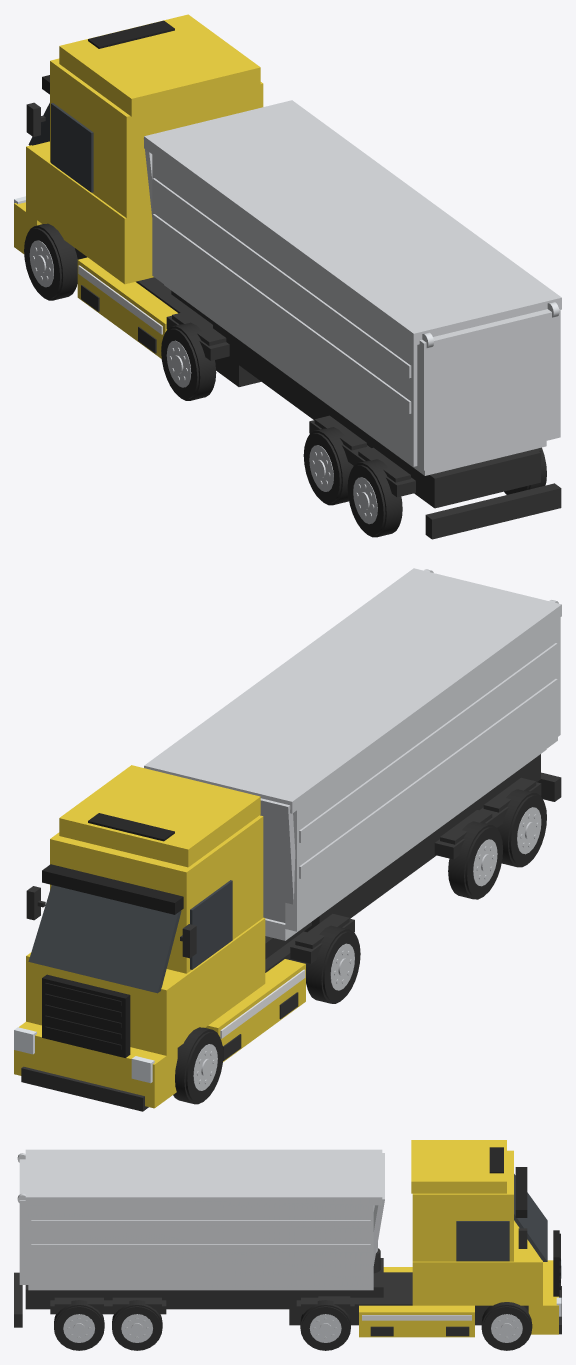
The model's file is caminhao de brinquedo2 .fbx.
The picture shows the model from 3 angles, top to bottom: view 1: azimuth 30°, elevation 25°; view 2: azimuth 150°, elevation 25°; view 3: azimuth 270°, elevation 25°; orthographic projection. The views are drawn at different scales.
Parts seen in each view (by area): view 1: SM_ToySemiTruck_Articulated; view 2: SM_ToySemiTruck_Articulated; view 3: SM_ToySemiTruck_Articulated.
Boxes of the visible parts, box(x1,y1,x2,y2) form: SM_ToySemiTruck_Articulated: box(14, 14, 561, 539); SM_ToySemiTruck_Articulated: box(14, 568, 561, 1111); SM_ToySemiTruck_Articulated: box(14, 1140, 561, 1350).
Size of the model in its own units: 0.1886 by 0.27 by 0.81.
